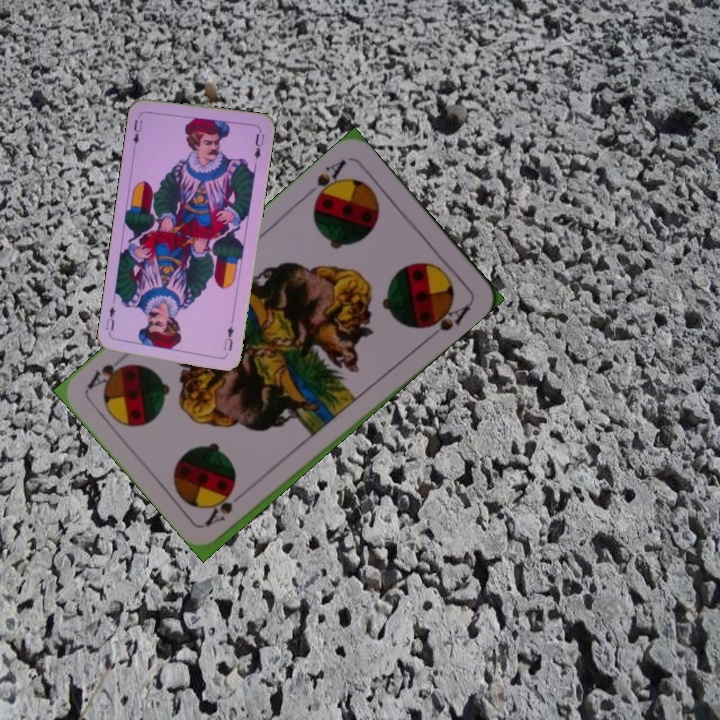EU: (129, 116, 145, 151), (220, 322, 236, 354)
SA: (302, 155, 349, 207), (201, 484, 252, 529)
